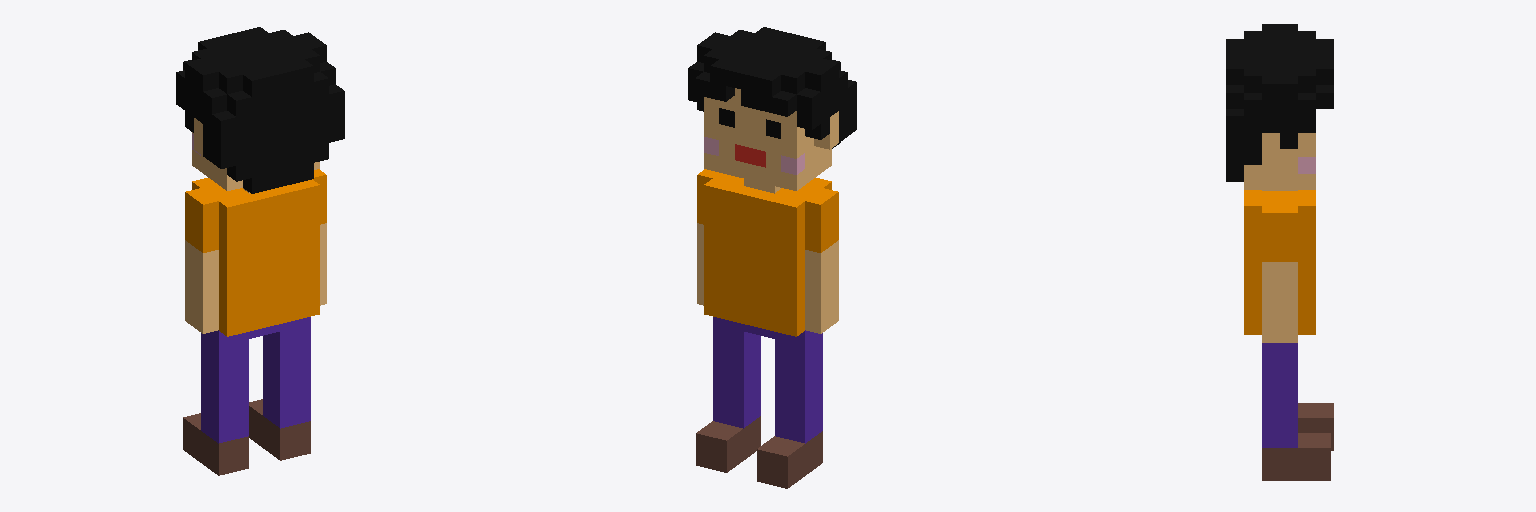
The picture shows the model from 3 angles: view 1: azimuth 30°, elevation 25°; view 2: azimuth 150°, elevation 25°; view 3: azimuth 270°, elevation 25°; orthographic projection.
Parts seen in each view (by area): view 1: group[number redacted], group[number redacted], group[number redacted]; view 2: group[number redacted], group[number redacted], group[number redacted], group[number redacted]; view 3: none.
Part boxes in pixels (x1,y1,x2,y2): group[number redacted]: (227,91,251,116); group[number redacted]: (194,65,218,91); group[number redacted]: (194,195,218,220); group[number redacted]: (772,91,796,116); group[number redacted]: (772,446,796,472); group[number redacted]: (805,65,829,91); group[number redacted]: (805,195,829,220).
Bounding box in the file's own units: 0.64 × 2 × 0.48.